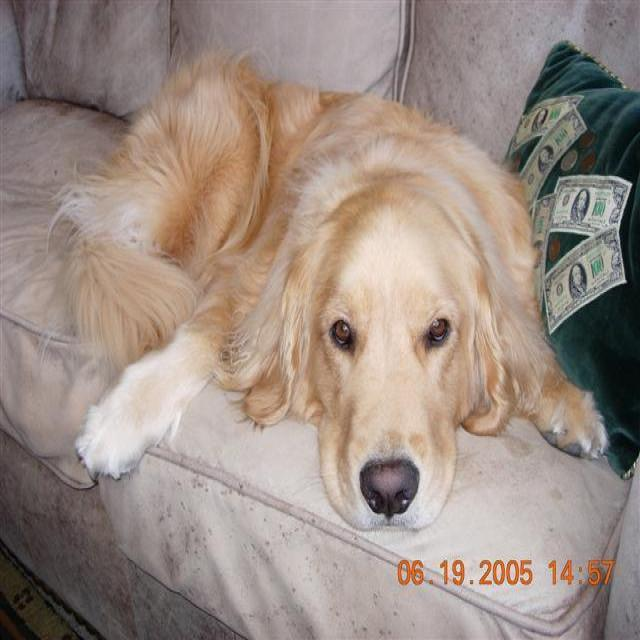adult_dog: (39, 47, 609, 536)
